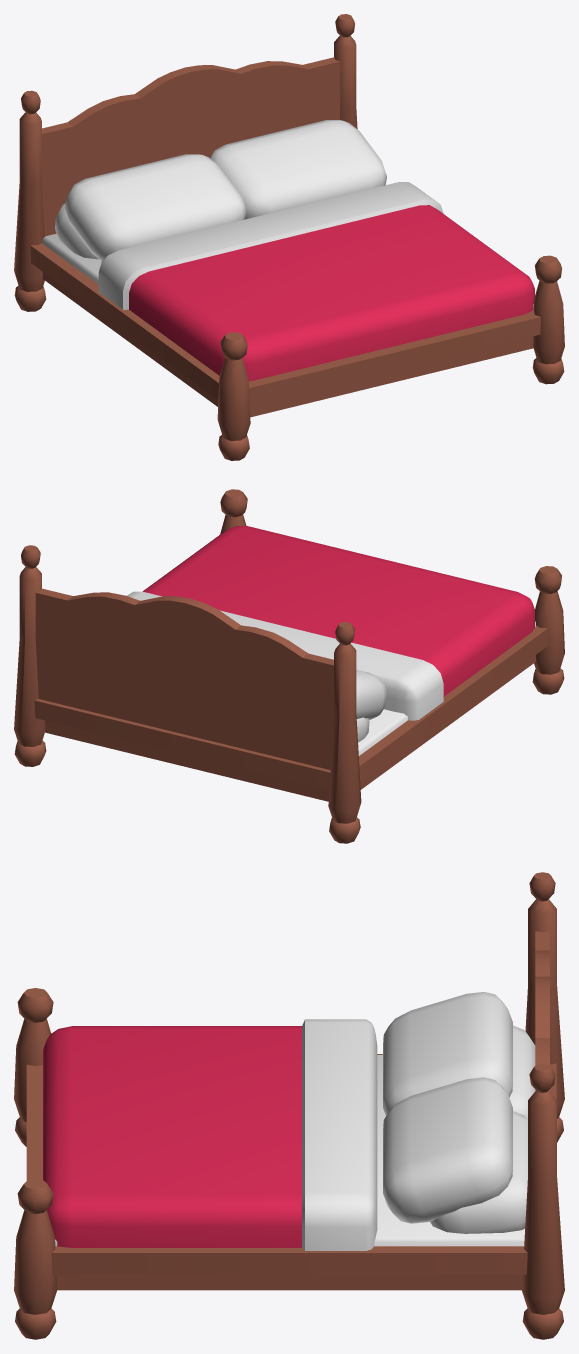
File: bed_red.fbx
3 views of the same model, one above another, from view 1: azimuth 30°, elevation 25°; view 2: azimuth 150°, elevation 25°; view 3: azimuth 270°, elevation 25° (orthographic). The views are drawn at different scales.
Visible parts, largest first — view 1: bed_red; view 2: bed_red; view 3: bed_red.
Boxes of the visible parts, x1,y1,x2,y2 form: bed_red: [14, 14, 564, 460]; bed_red: [14, 489, 564, 843]; bed_red: [14, 872, 564, 1339].
Bounding box in the file's own units: 2.87 × 1.71 × 3.19.
